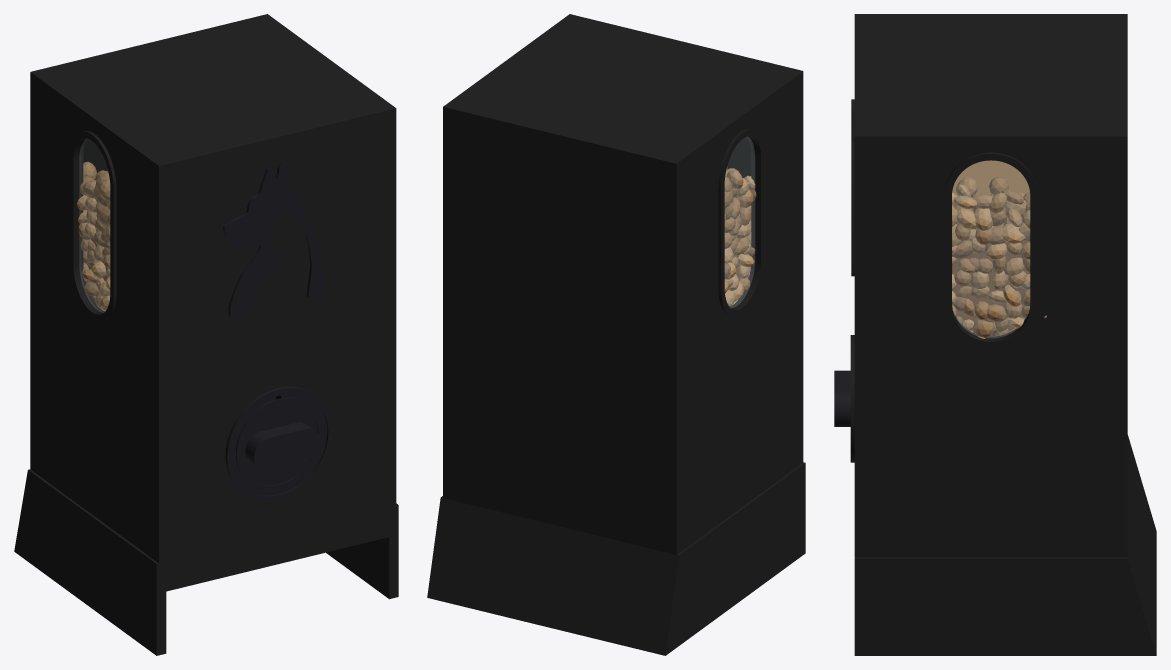
Rendered from dispenser.glb.
3 views of the same model, side by side, from view 1: azimuth 30°, elevation 25°; view 2: azimuth 150°, elevation 25°; view 3: azimuth 270°, elevation 25° (orthographic). The views are drawn at different scales.
Visible parts, largest first — view 1: frente, lado_esq, topo, perna_esq, barra, logo, disco, vidro_esq, lado_dir, perna_dir, aro_esq, costas (+7 smaller); view 2: costas, lado_esq, topo, placa_traseira, perna_esq, vidro_esq, aro_esq, fundo, frente, lado_dir, racao2, racao1 (+3 smaller); view 3: lado_dir, topo, perna_dir, vidro_dir, frente, costas, racao2, aro_dir, placa_traseira, racao1, racao0, fundo (+5 smaller).
Part boxes in pixels (box(x1,y1,x2,y2)): frente: box(155, 105, 396, 563); lado_esq: box(30, 71, 166, 562); topo: box(30, 14, 396, 172); perna_esq: box(14, 469, 166, 655); barra: box(159, 507, 389, 593); logo: box(223, 161, 324, 318); disco: box(225, 386, 327, 495); vidro_esq: box(79, 139, 109, 312); lado_dir: box(263, 15, 396, 506); perna_dir: box(326, 503, 398, 599); aro_esq: box(70, 131, 116, 321); costas: box(30, 14, 270, 470); costas: box(443, 104, 680, 554); lado_esq: box(669, 72, 803, 554); topo: box(443, 14, 802, 170); placa_traseira: box(432, 498, 672, 654); perna_esq: box(656, 462, 805, 655); vidro_esq: box(725, 137, 754, 307); aro_esq: box(718, 129, 764, 316); fundo: box(443, 457, 802, 554); frente: box(566, 14, 803, 463); lado_dir: box(443, 14, 569, 490); racao2: box(724, 176, 756, 290); racao1: box(724, 169, 755, 306); lado_dir: box(854, 133, 1127, 557); topo: box(854, 14, 1127, 144); perna_dir: box(854, 555, 1156, 655); vidro_dir: box(953, 160, 1029, 337); frente: box(854, 14, 863, 557); costas: box(1119, 14, 1127, 557); racao2: box(952, 176, 1030, 338); aro_dir: box(944, 152, 1037, 348); placa_traseira: box(1127, 437, 1156, 650); racao1: box(952, 184, 1046, 330); racao0: box(952, 177, 1030, 332); fundo: box(858, 550, 1124, 557).
Size of the model in its own units: 1.02 by 1.97 by 1.11.
